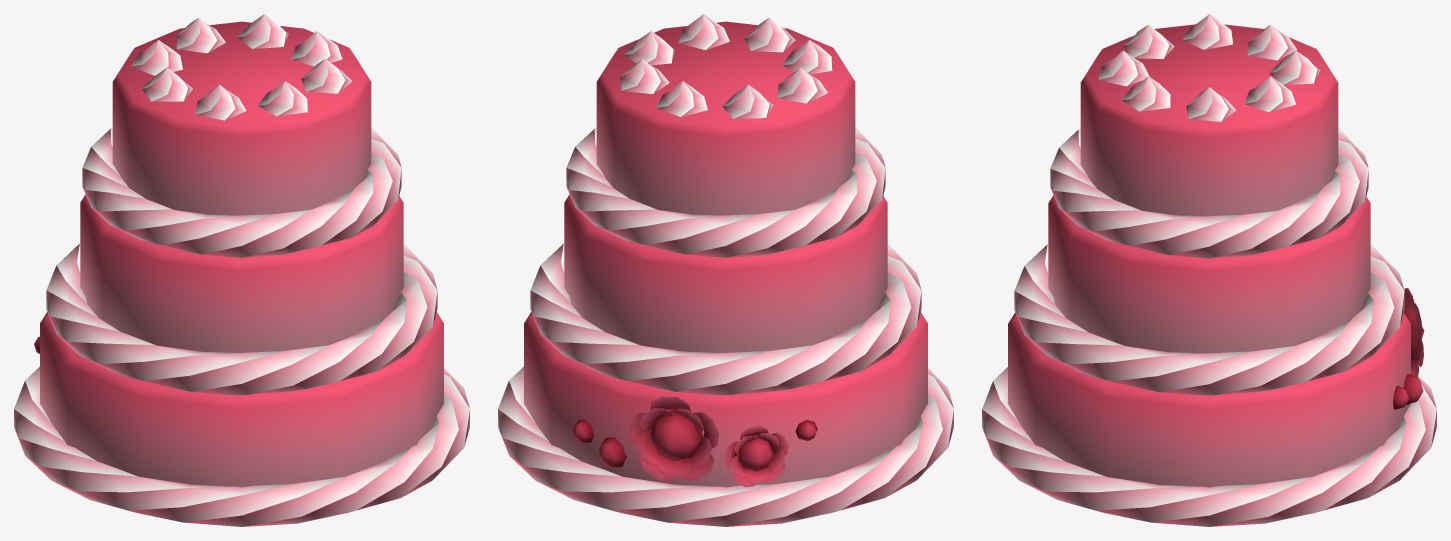
Rendered from m_WeddingCake01.fbx.
3 renders of one model, left to right at view 1: azimuth 30°, elevation 25°; view 2: azimuth 150°, elevation 25°; view 3: azimuth 270°, elevation 25°, orthographic.
Parts seen in each view (by area): view 1: m_WeddingCake01; view 2: m_WeddingCake01; view 3: m_WeddingCake01.
Boxes of the visible parts, x1,y1,x2,y2 form: m_WeddingCake01: (14,14,469,526); m_WeddingCake01: (498,14,953,526); m_WeddingCake01: (982,14,1436,526).
Size of the model in its own units: 32 by 29.61 by 31.61.
